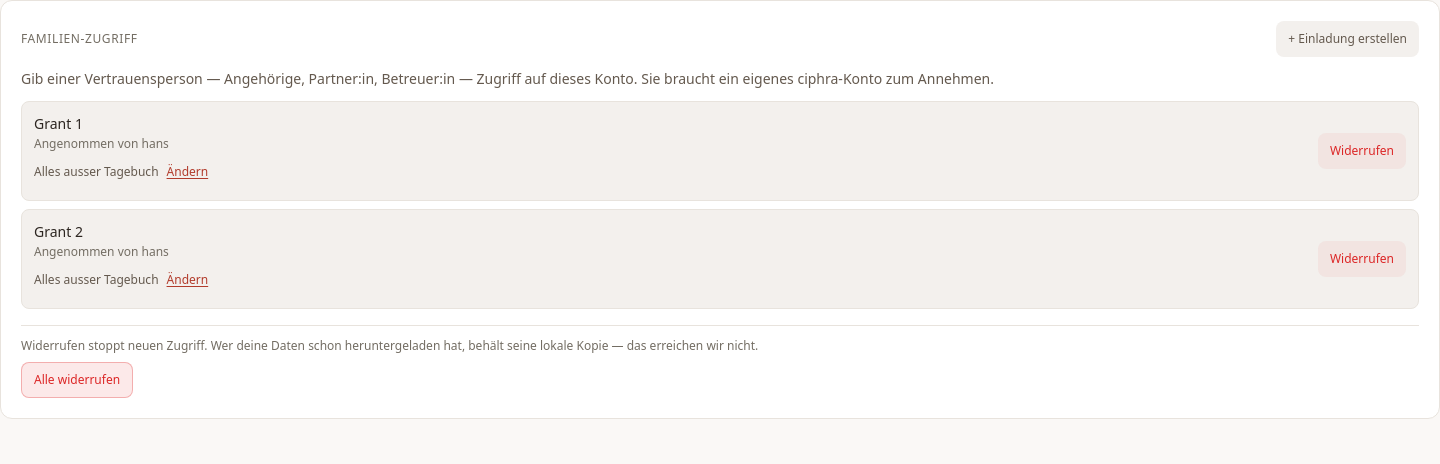
Test: FamilySharing failures › a failed "revoke all" says access was not removed
What coordinates should you click on to do the following:
click the button "Alle widerrufen"
I would click on:
 (77, 380)
Its box is top-left (21, 362), bottom-right (133, 398).
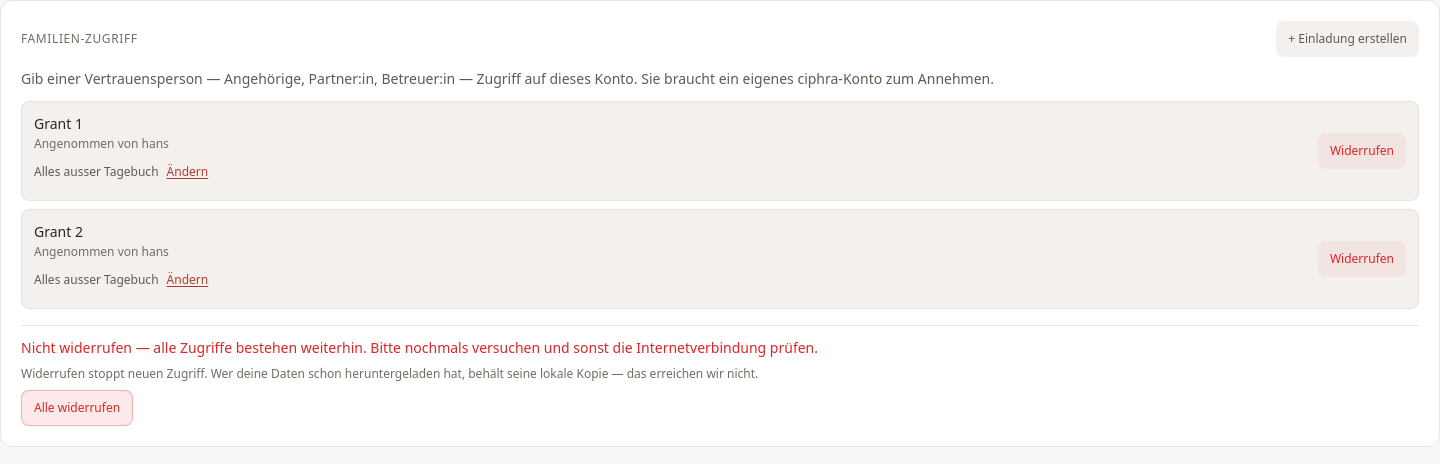
Check: the message with test id "family-revoke-error" shows "Nicht widerrufen — alle Zugriffe bestehen weiterhin. Bitte nochmals versuchen und sonst die Internetverbindung prüfen.", box top-left (21, 338), bottom-right (818, 357)
